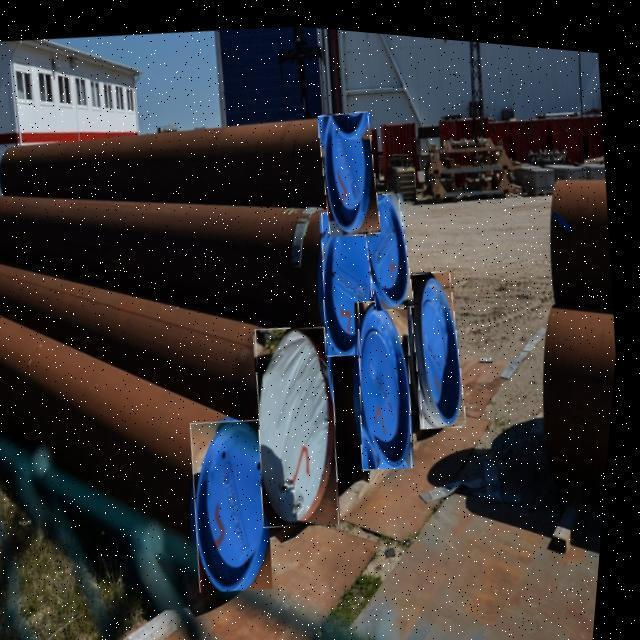pipe: (261, 320, 347, 521), (197, 414, 282, 588), (412, 263, 473, 421), (363, 293, 419, 462), (319, 105, 384, 230), (325, 205, 378, 349), (363, 186, 419, 303)
